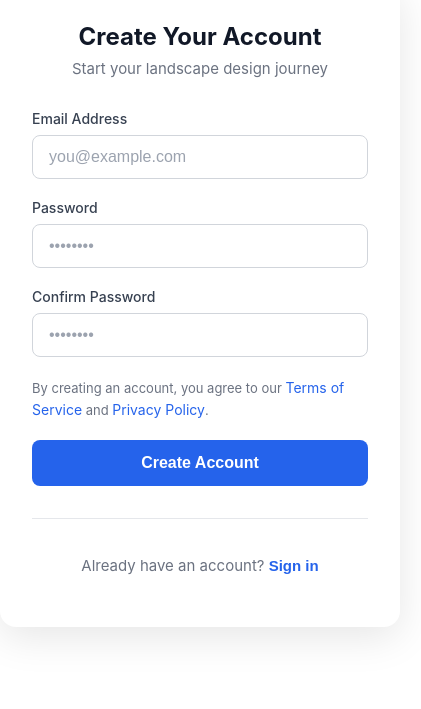
Test: RegisterForm › should show password length error
In the field labelled "Email Address": (200, 157) [32,135,368,179], type "test@example.com"
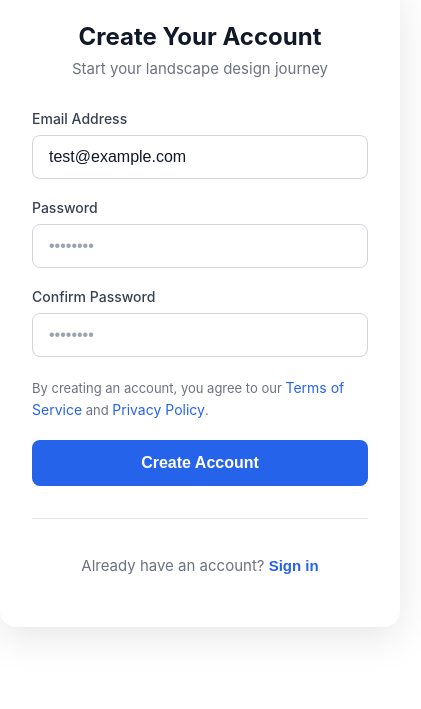
In the password field labelled "Password": (200, 246) [32,224,368,268], type "short"
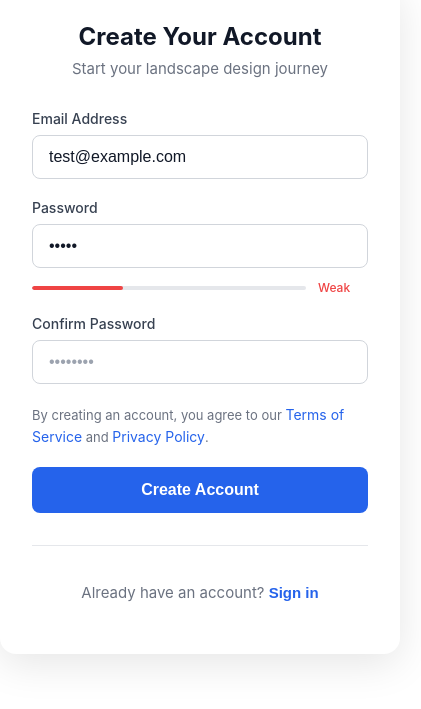
In the password field labelled "Confirm Password": (200, 362) [32,340,368,384], type "short"
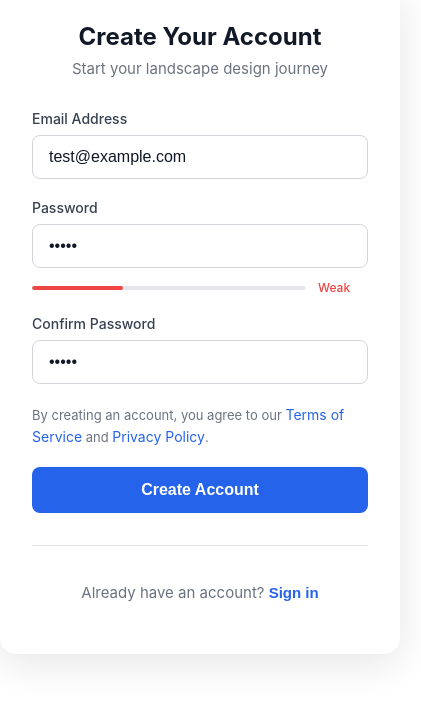
Click the button "Create Account": (200, 490) [32,467,368,513]
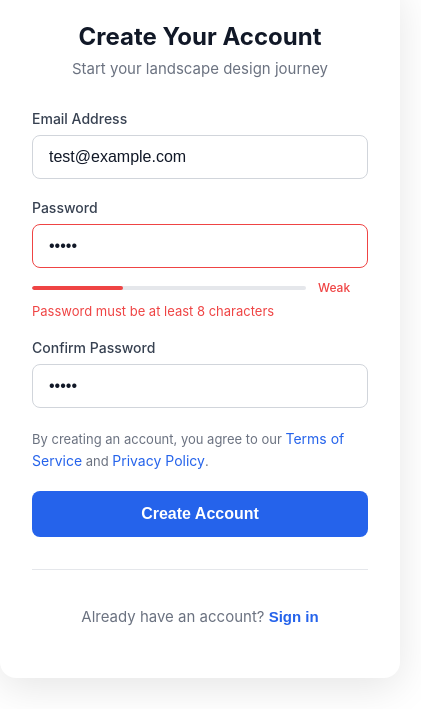
Check: the text "Password must be at least 8 characters" is shown, box [32,303,274,319]
